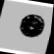correct: (16, 10, 47, 40)
